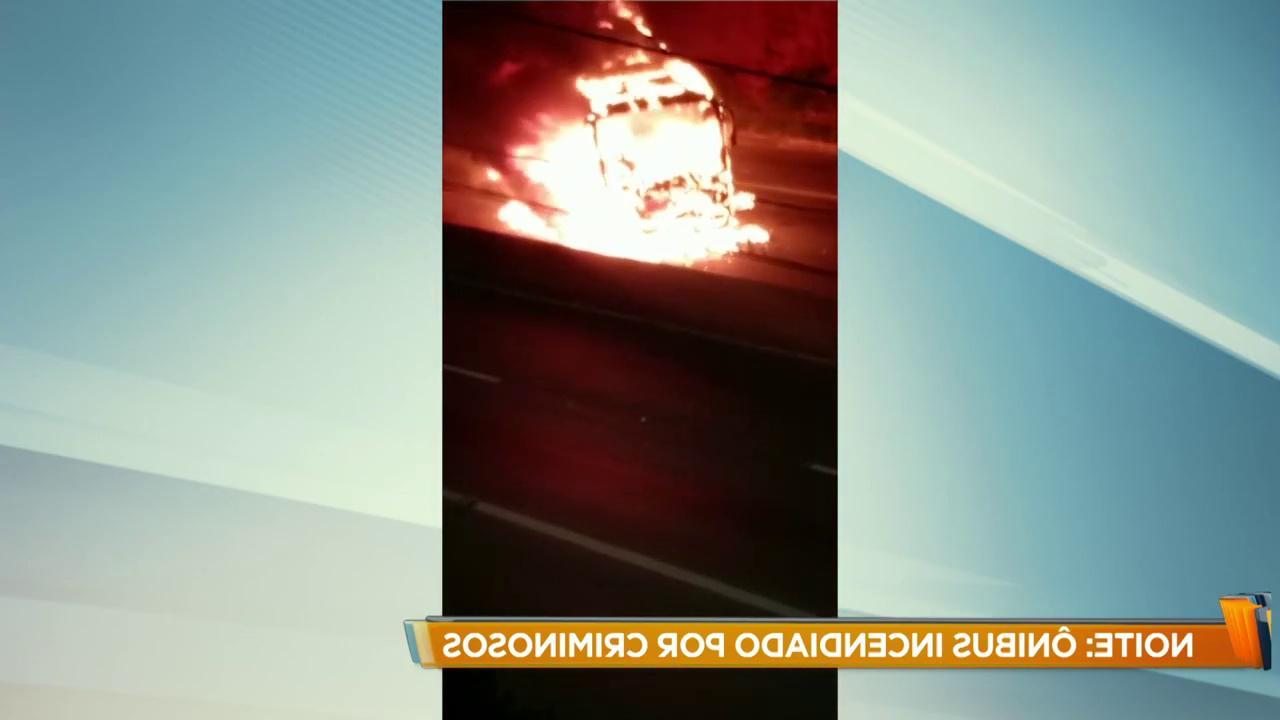Fire: (485, 27, 759, 269)
